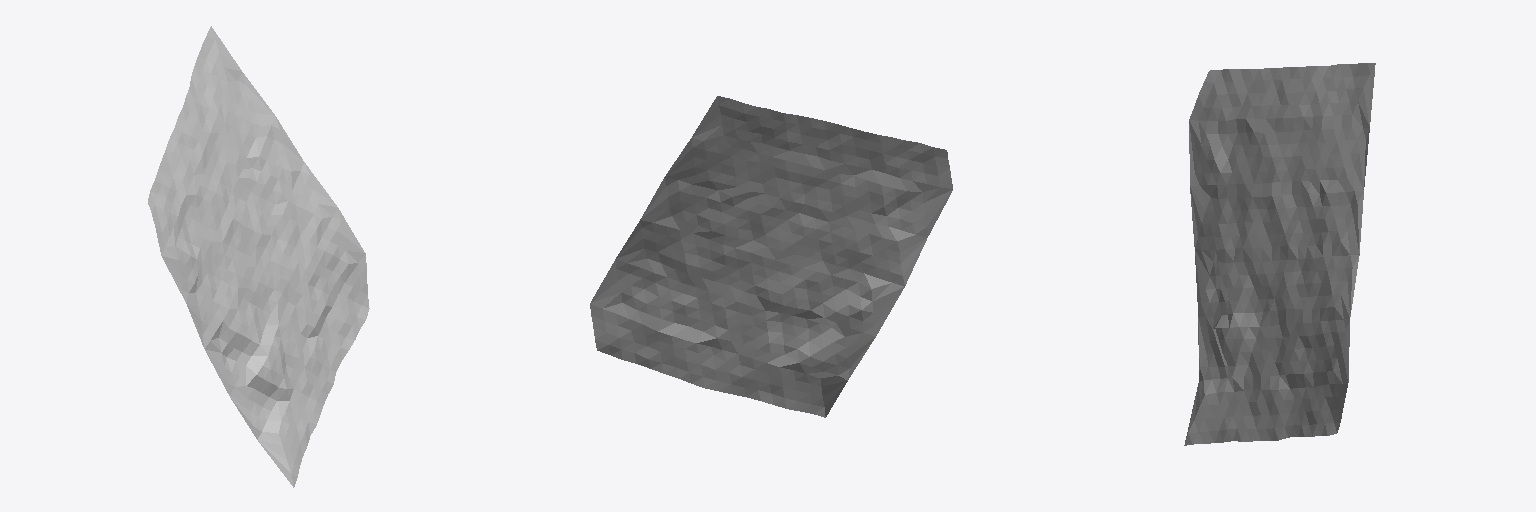
The model's file is flag001.obj.
3 renders of one model, left to right at view 1: azimuth 30°, elevation 25°; view 2: azimuth 150°, elevation 25°; view 3: azimuth 270°, elevation 25°, orthographic.
Bounding box in the file's own units: 334 × 432 × 193.